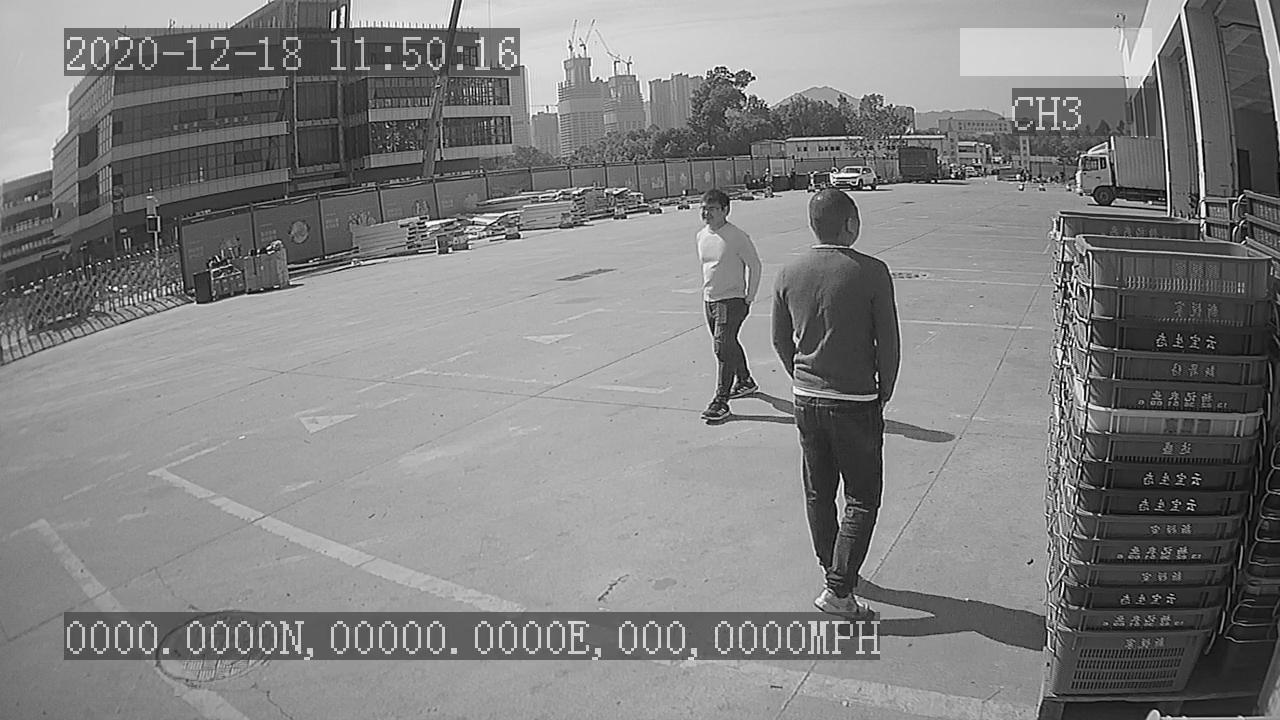person: (765, 186, 906, 611), (684, 185, 765, 426)
